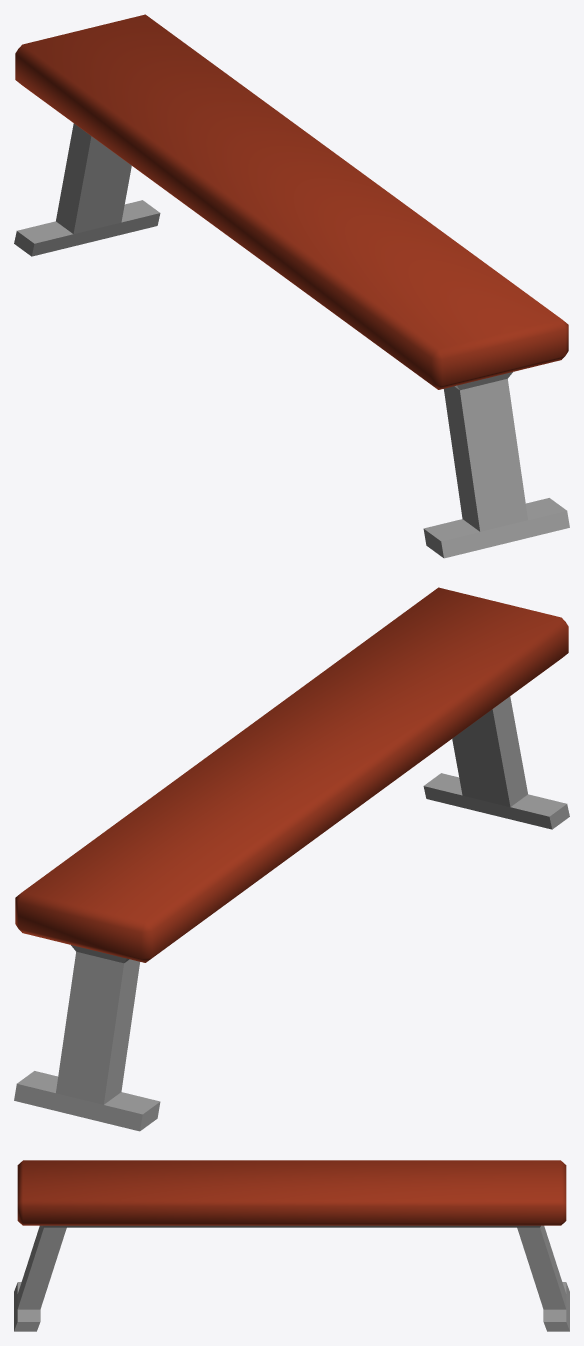
The model's file is bench-a.glb.
The picture shows the model from 3 angles, top to bottom: view 1: azimuth 30°, elevation 25°; view 2: azimuth 150°, elevation 25°; view 3: azimuth 270°, elevation 25°; orthographic projection. The views are drawn at different scales.
Parts seen in each view (by area): view 1: Bench_A; view 2: Bench_A; view 3: Bench_A.
Part boxes in pixels (<box>): Bench_A: <box>14,14,569,558</box>; Bench_A: <box>14,587,569,1131</box>; Bench_A: <box>14,1160,569,1331</box>.
Size of the model in its own units: 35.24 by 49.99 by 191.
Materials: 1 (1 with a texture image).
